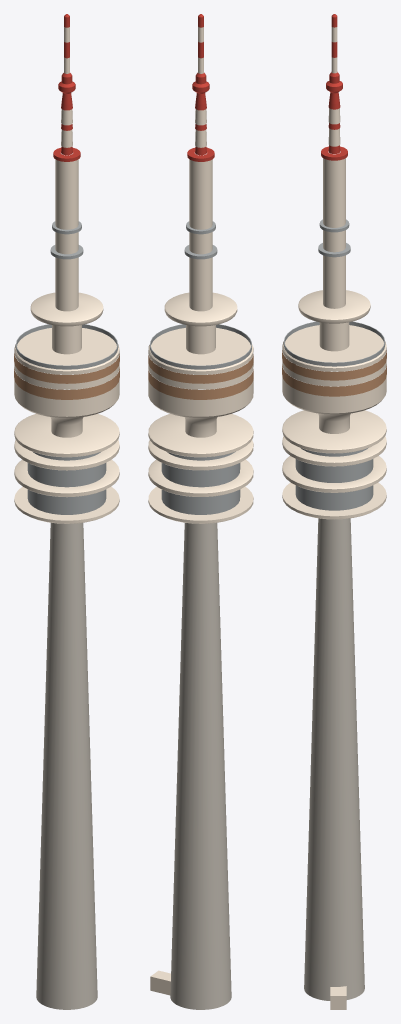
File: munich-olympiaturm.glb
The picture shows the model from 3 angles, left to right: view 1: azimuth 90°, elevation 25°; view 2: azimuth 150°, elevation 25°; view 3: azimuth 270°, elevation 25°; orthographic projection.
Visible parts, largest first — view 1: Olympiaturm; view 2: Olympiaturm; view 3: Olympiaturm.
Boxes of the visible parts, x1,y1,x2,y2 form: Olympiaturm: (14,14,119,1009); Olympiaturm: (148,14,253,1009); Olympiaturm: (282,14,386,1009).
Size of the model in its own units: 28.4 by 291 by 28.4.
